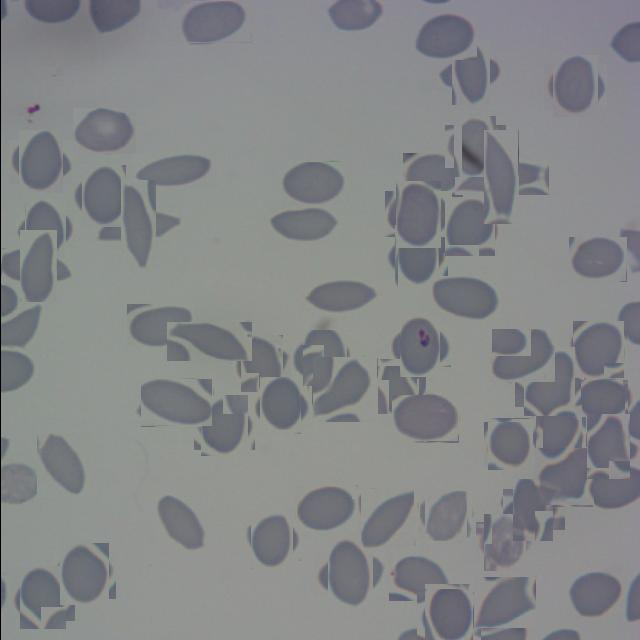leukocyte: (468, 144, 534, 209), (106, 194, 170, 258), (312, 358, 376, 422), (518, 351, 579, 412), (490, 329, 554, 383), (140, 378, 212, 426), (534, 448, 592, 507), (166, 320, 251, 360), (321, 544, 379, 602), (36, 433, 88, 497), (358, 491, 416, 548), (430, 276, 500, 322), (391, 394, 458, 442), (473, 577, 535, 628), (390, 186, 446, 242), (280, 160, 346, 207), (56, 546, 111, 602), (294, 485, 358, 533), (15, 570, 70, 625), (10, 239, 65, 294), (132, 153, 216, 189), (179, 1, 251, 43), (155, 493, 207, 551), (72, 108, 136, 155), (412, 13, 476, 60), (124, 304, 192, 348), (570, 322, 624, 377), (196, 398, 251, 452), (580, 419, 634, 474), (442, 201, 496, 255), (13, 135, 67, 189), (548, 60, 602, 114), (76, 169, 129, 223), (421, 588, 476, 640), (388, 555, 450, 601), (267, 204, 339, 243), (565, 570, 622, 619), (448, 120, 501, 172), (390, 230, 442, 282), (506, 484, 558, 536), (444, 48, 495, 100), (402, 153, 462, 197), (568, 237, 626, 282), (304, 280, 380, 314), (533, 406, 583, 457), (236, 339, 286, 389), (20, 204, 70, 254), (246, 514, 296, 564), (254, 380, 304, 430), (479, 518, 529, 568), (299, 332, 349, 382), (484, 420, 534, 469), (374, 362, 422, 410), (421, 494, 468, 540), (580, 380, 628, 418)
red blood cell: (394, 322, 444, 372)
